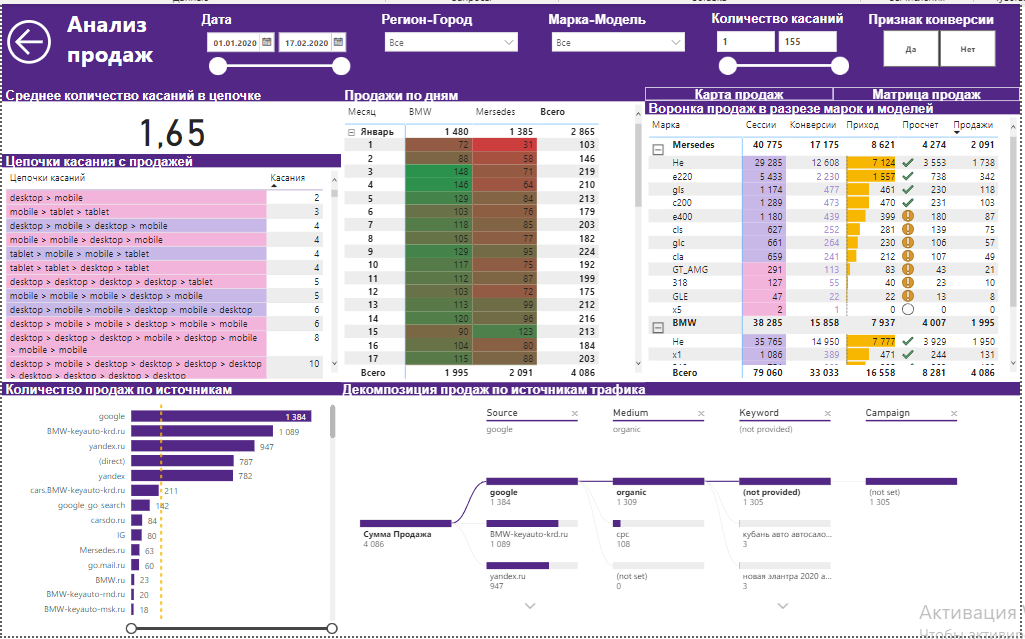

The page's visual inventory and layout, read from the dashboard file:
{"tool":"powerbi","page":{"name":"Визуализация","canvas":[1450,900],"ordinal":1},"visuals":[{"type":"tableEx","title":"Цепочки касания с продажей","fields":{"Values":["Client ID.Цепочки касаний","Sum(Client ID.Количество касаний в цепочке)"]},"box":[0,213.6,482.8,324.7],"z":0},{"type":"textbox","box":[0,0,1449.7,119.6],"z":1000},{"type":"pivotTable","title":"Воронка продаж в разрезе марок и моделей","fields":{"Rows":["Маркетинговые данные.Марка","Маркетинговые данные.Модель"],"Values":["Sum(Маркетинговые данные.Sessions)","Sum(Маркетинговые данные.Конверсия)","Sum(Данные из CRM.Приход к диллеру)","Sum(Данные из CRM.Просчет стоимости модели)","Sum(Данные из CRM.Продажа)"]},"box":[915.7,138.1,534,400.2],"z":2000},{"type":"barChart","title":"Количество продаж по источникам","fields":{"Category":["Маркетинговые данные.Source"],"Y":["Sum(Данные из CRM.Продажа)"]},"box":[0,538.3,479.9,361.7],"z":4000},{"type":"decompositionTreeVisual","title":"Декомпозиция продаж по источникам трафика","fields":{"Analyze":["Sum(Данные из CRM.Продажа)"],"ExplainBy":["Маркетинговые данные.Source","Маркетинговые данные.Medium","Маркетинговые данные.Keyword","Маркетинговые данные.Campaign"]},"box":[479.9,538.3,969.8,361.7],"z":5000},{"type":"slicer","title":"Количество касаний","fields":{"Values":["Client ID.Количество касаний в цепочке"]},"box":[1005.4,10,209.3,95.4],"z":6000},{"type":"slicer","title":"Признак конверсии","fields":{"Values":["Client ID.Признак конверсии"]},"box":[1229,11.4,210,85],"z":7000},{"type":"slicer","title":"Дата","fields":{"Values":["Маркетинговые данные.Date"]},"box":[279.1,11.4,225,95.4],"z":8000},{"type":"card","title":"Среднее количество касаний в цепочке","fields":{"Values":["Avg(Client ID.Количество касаний в цепочке)"]},"box":[0,119.6,482.8,94],"z":9000},{"type":"slicer","title":"Марка-Модель","fields":{"Values":["Маркетинговые данные.Марка","Маркетинговые данные.Модель"]},"box":[773.3,11.4,209.3,95.4],"z":10000},{"type":"slicer","title":"Регион-Город","fields":{"Values":["Маркетинговые данные.Region","Маркетинговые данные.City"]},"box":[535.4,11.4,209.3,95.4],"z":11000},{"type":"actionButton","box":[0,11,77,85.2],"z":12000},{"type":"shape","box":[915.7,118.2,267.7,18.5],"z":13000},{"type":"shape","box":[1183.4,118.2,266.3,19.9],"z":14000},{"type":"pivotTable","title":"Продажи по дням","fields":{"Values":["Sum(Данные из CRM.Продажа)"],"Rows":["Маркетинговые данные.Date.Изменение.Иерархия дат.Месяц","Маркетинговые данные.Date.Изменение.Иерархия дат.День"],"Columns":["Маркетинговые данные.Марка"]},"box":[482.8,119.6,432.9,418.7],"z":15000}]}

Visuals, with their boxes in screenshot pixels (x1, y1, x2, y2), scaled from the page's 1450x900 canvas onto the 1025x639 screenshot:
"Цепочки касания с продажей" tableEx: (x1=0, y1=152, x2=341, y2=382)
textbox: (x1=0, y1=0, x2=1024, y2=85)
"Воронка продаж в разрезе марок и моделей" pivotTable: (x1=647, y1=98, x2=1024, y2=382)
"Количество продаж по источникам" barChart: (x1=0, y1=382, x2=339, y2=638)
"Декомпозиция продаж по источникам трафика" decompositionTreeVisual: (x1=339, y1=382, x2=1024, y2=638)
"Количество касаний" slicer: (x1=711, y1=7, x2=859, y2=75)
"Признак конверсии" slicer: (x1=869, y1=8, x2=1017, y2=68)
"Дата" slicer: (x1=197, y1=8, x2=356, y2=76)
"Среднее количество касаний в цепочке" card: (x1=0, y1=85, x2=341, y2=152)
"Марка-Модель" slicer: (x1=547, y1=8, x2=695, y2=76)
"Регион-Город" slicer: (x1=378, y1=8, x2=526, y2=76)
actionButton: (x1=0, y1=8, x2=54, y2=68)
shape: (x1=647, y1=84, x2=837, y2=97)
shape: (x1=837, y1=84, x2=1024, y2=98)
"Продажи по дням" pivotTable: (x1=341, y1=85, x2=647, y2=382)
